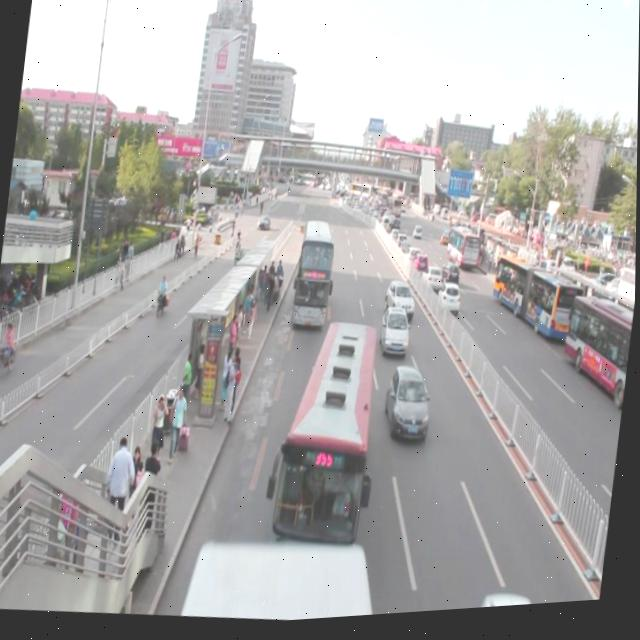car: (377, 368, 437, 454), (375, 311, 413, 365), (380, 282, 419, 330)
van: (254, 318, 391, 580), (286, 224, 340, 339)
